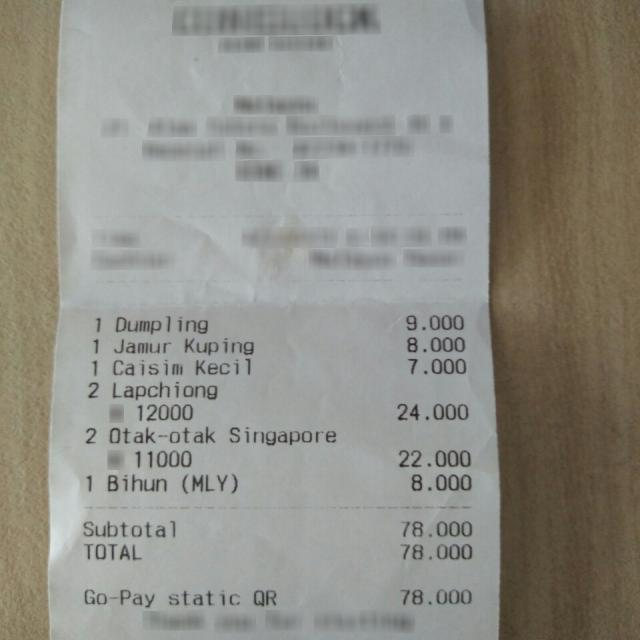kertas: (50, 0, 501, 640)
